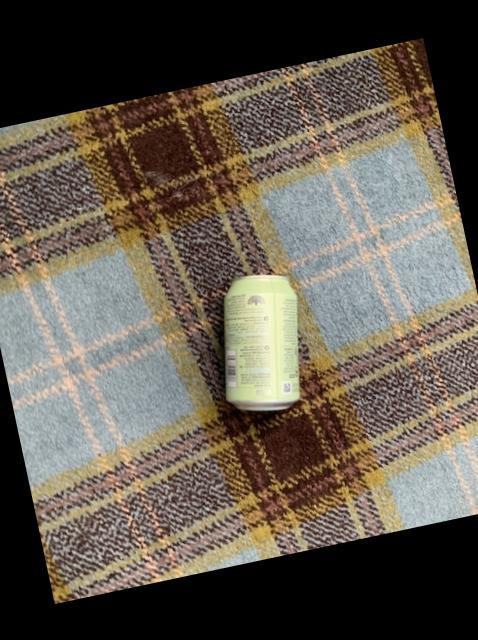metal: (226, 274, 300, 410)
